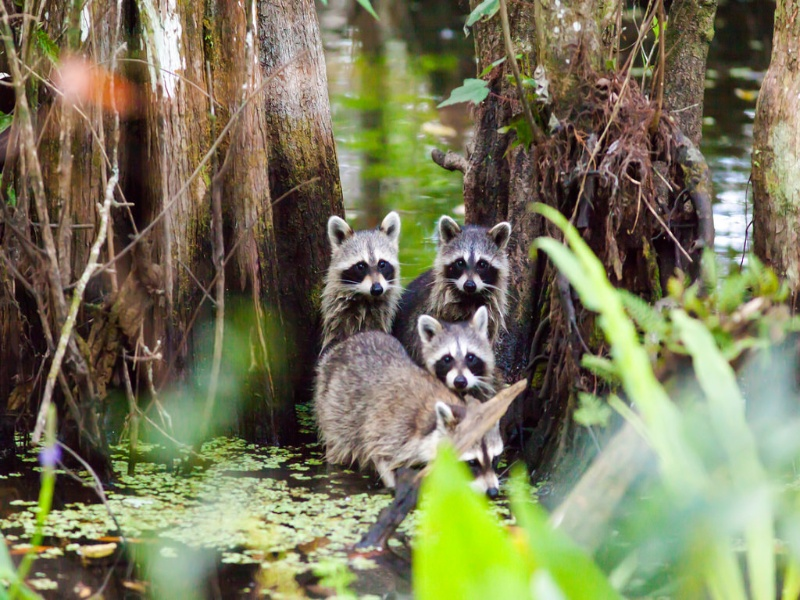raccoon: (296, 332, 510, 511), (396, 211, 527, 348), (427, 305, 502, 496), (310, 209, 402, 356)
